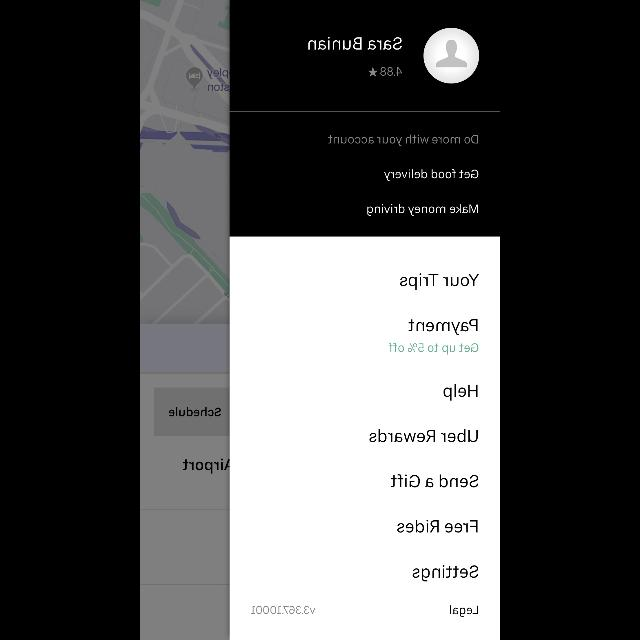icon: (424, 28, 478, 84), (368, 67, 377, 77)
panel: (230, 1, 500, 640)
text: (328, 135, 478, 147), (367, 204, 478, 216), (369, 430, 477, 442), (399, 274, 478, 290), (390, 474, 478, 488), (308, 38, 402, 51), (413, 564, 479, 582), (384, 169, 478, 181), (408, 319, 478, 335), (388, 343, 478, 355), (397, 520, 477, 532), (443, 384, 477, 402), (250, 606, 316, 614), (450, 605, 478, 617), (380, 66, 402, 76)
